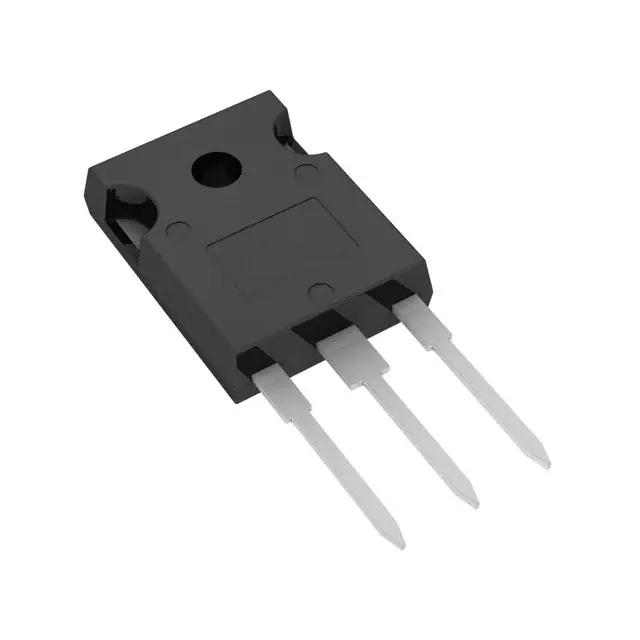Transistor: (88, 96, 552, 550)
